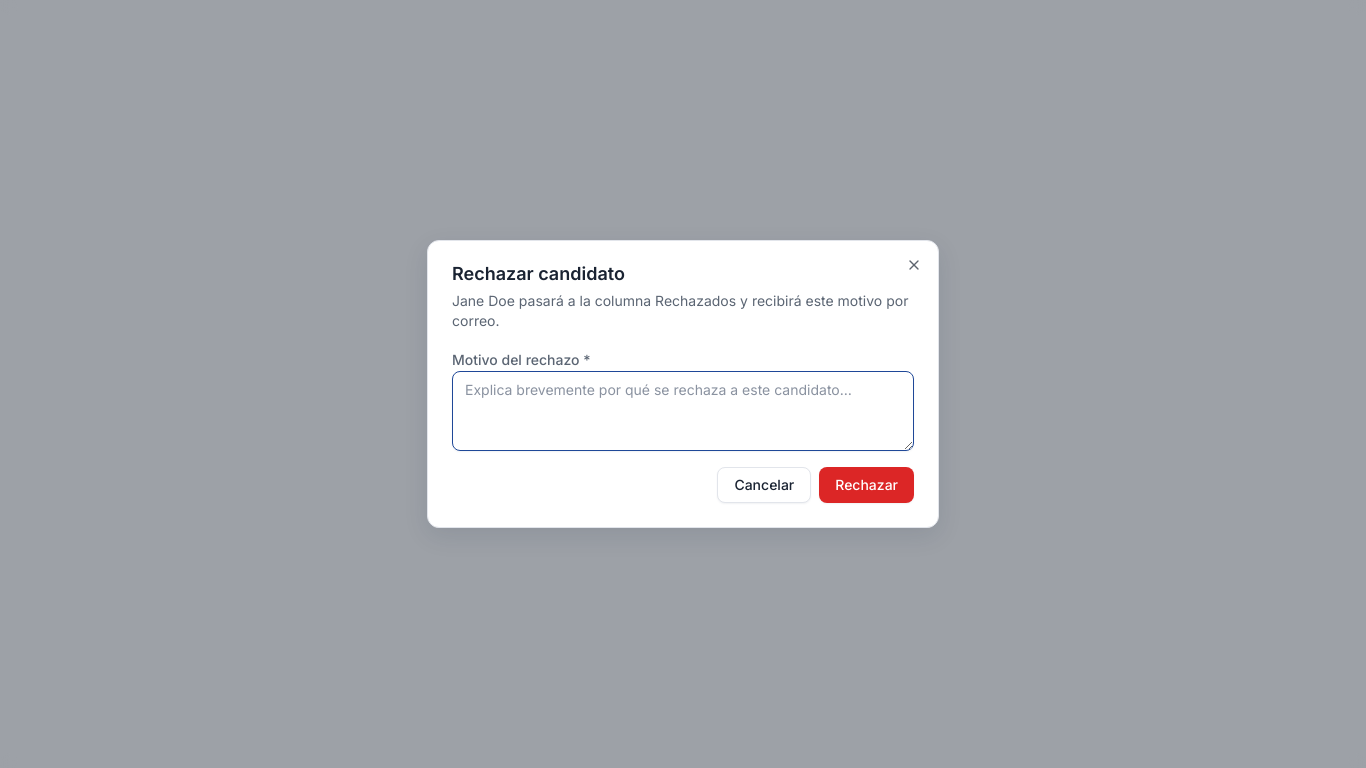
Test case: RejectReasonDialog › requires a non-empty reason — submitting empty shows a validation error and does not confirm
The image size is (1366, 768).
Click the button "Rechazar" at (867, 485), box [819,467,914,503]
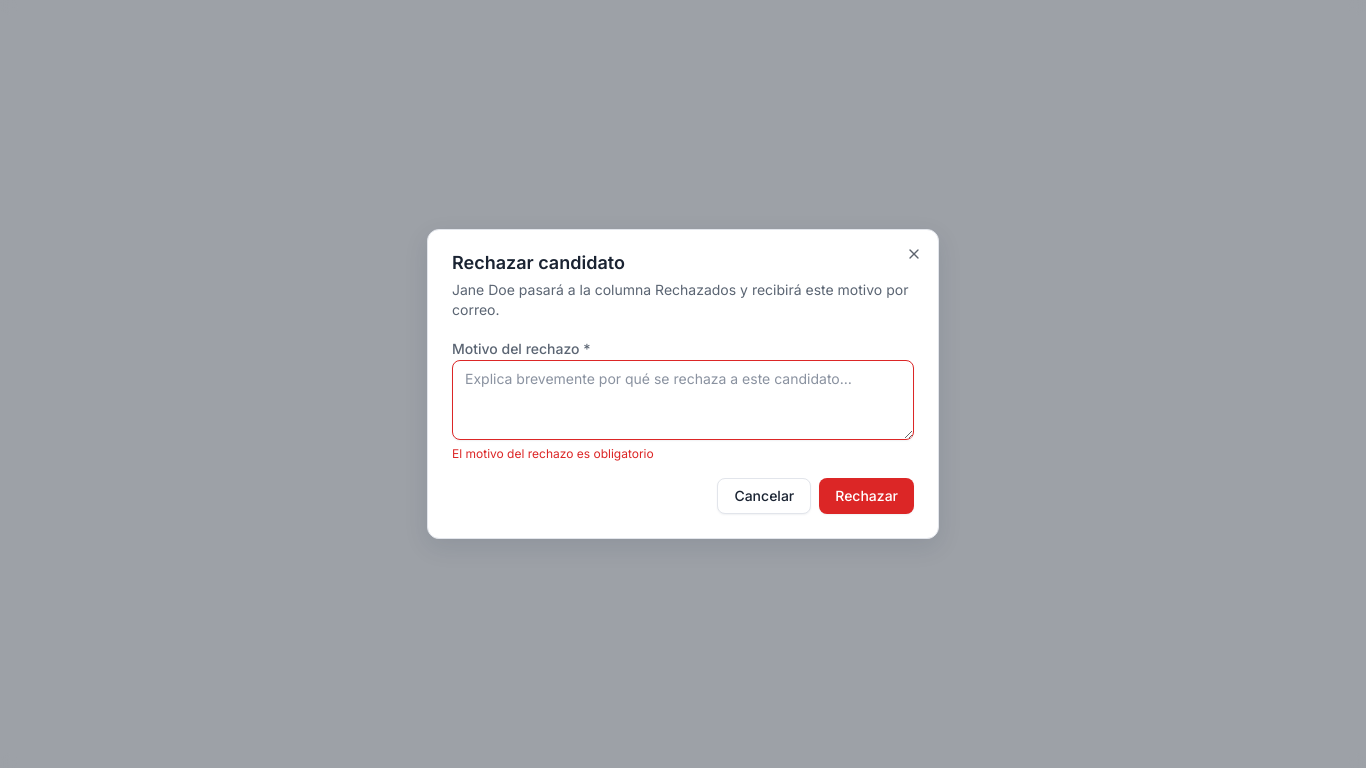
Now the text "El motivo del rechazo es obligatorio" is shown, box [452,446,654,461]
